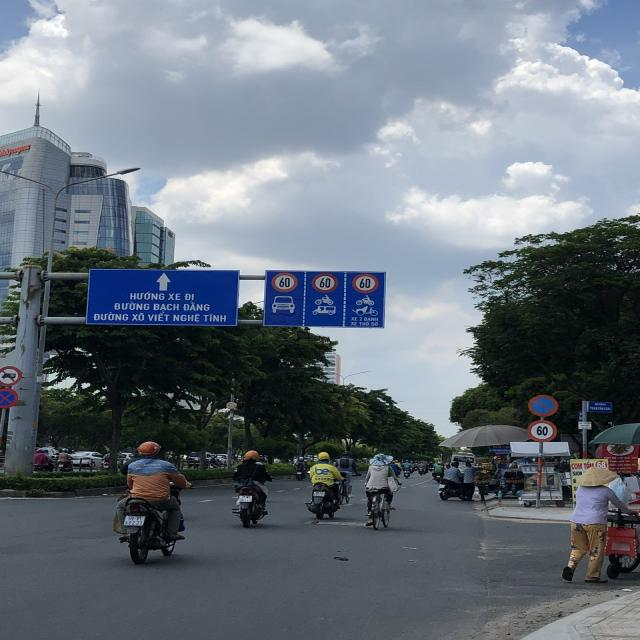Bien bao cam do xe: (526, 393, 559, 419)
Bien bao cam xe oto tai: (0, 363, 22, 387)
Bien bao toc do toi da cho phep: (526, 419, 560, 444), (308, 269, 339, 295), (350, 271, 381, 296), (270, 271, 298, 293)
